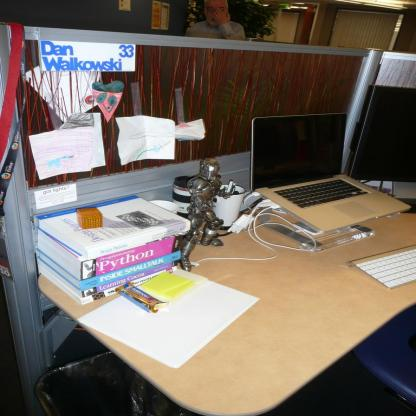board: (240, 102, 396, 244)
